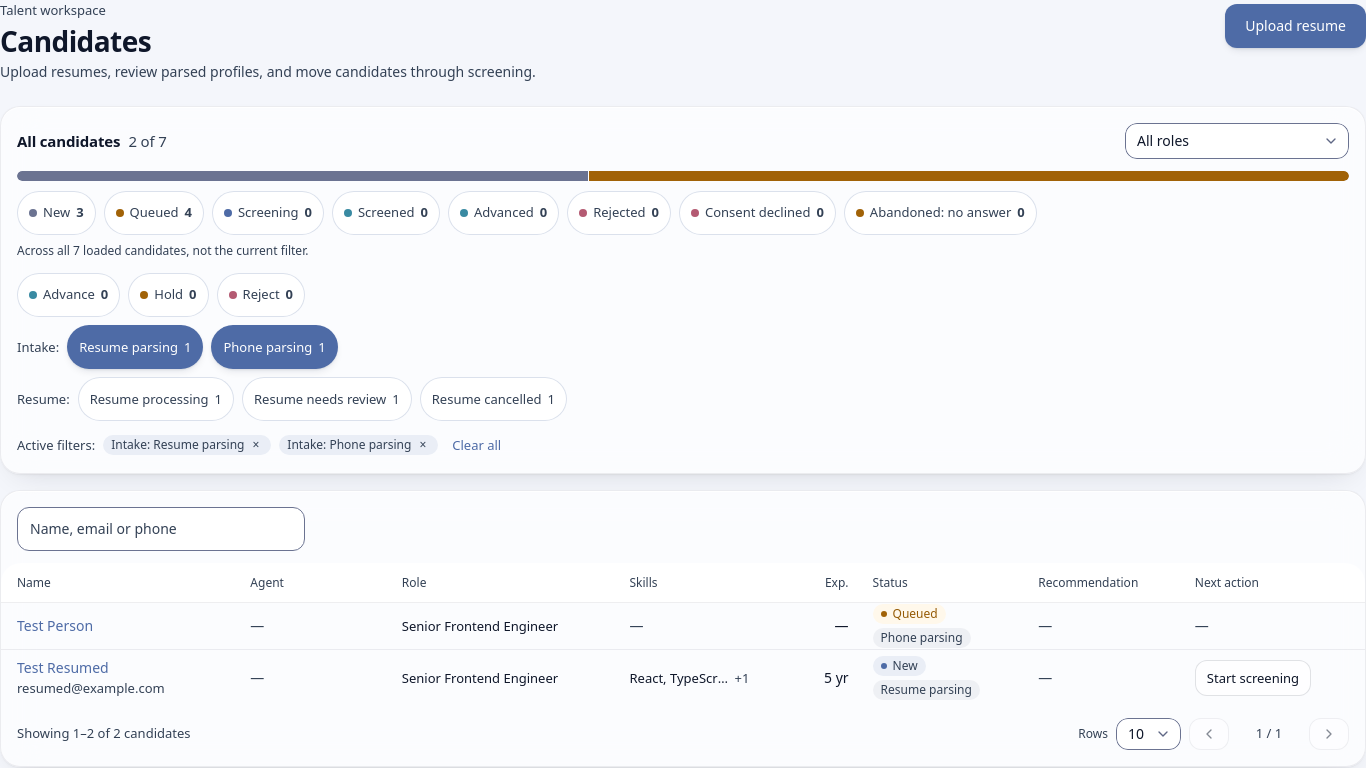
Test: CandidatesPage — intake type (M017) › applies an intake deep link, excluding every row without an intake type
Expected: the text "2 of 7" is shown, [128,131,167,151]
Expected: the row that starts with "Test Resumed" is shown, [1,650,1365,706]
Note: Removing one chip keeps the other.
Click the button named "Remove filter Intake: Resume parsing" at x=256, y=445, box [248,437,263,453]
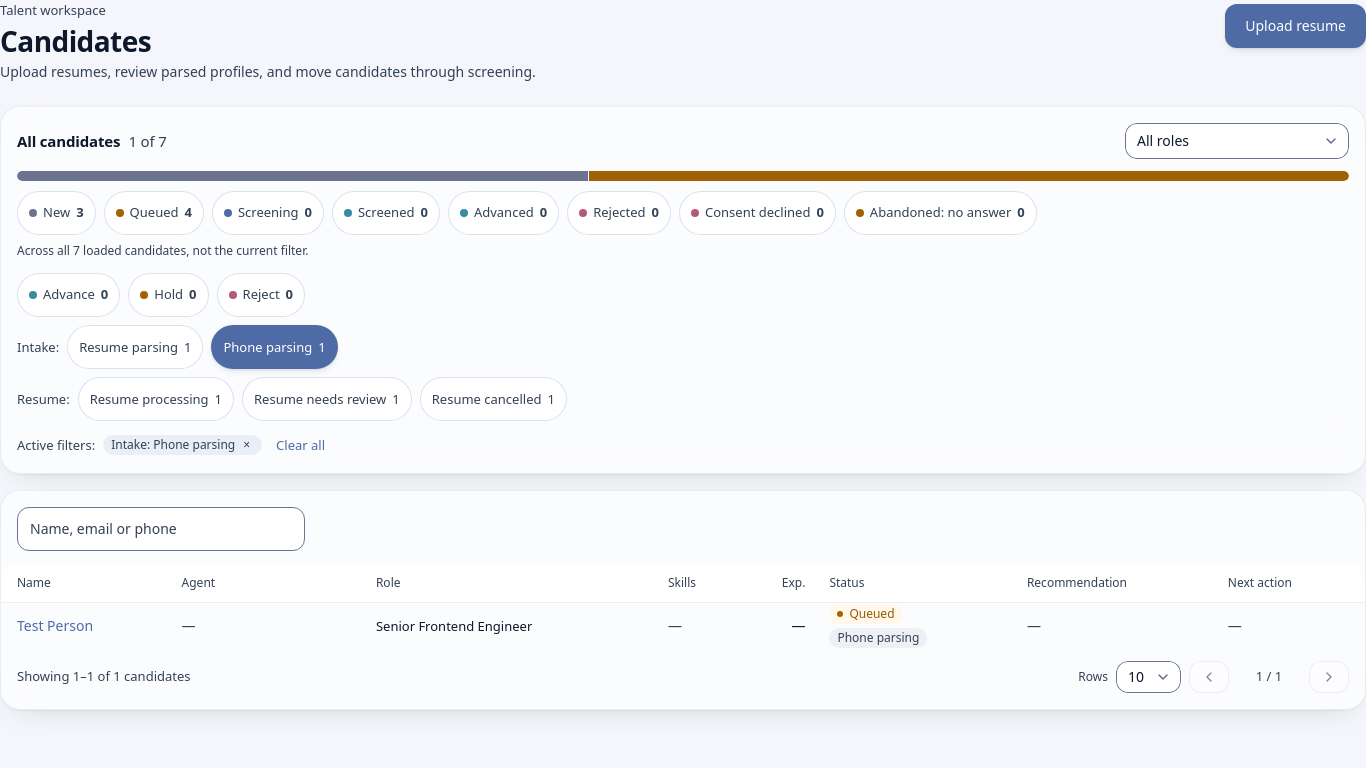
Expected: the button named "Remove filter Intake: Phone parsing" is shown, [239,437,254,453]
Expected: the text "1 of 7" is shown, [128,131,167,151]
